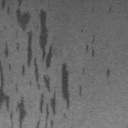red iron: (2, 0, 70, 128), (0, 60, 27, 128), (86, 34, 96, 57), (3, 41, 10, 58), (78, 85, 82, 96), (14, 42, 19, 50), (106, 68, 110, 78)
